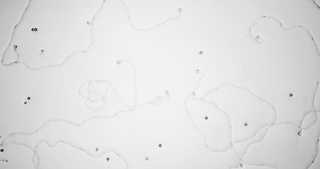germinated: (255, 34, 265, 42), (11, 43, 19, 53), (162, 89, 170, 97), (195, 67, 203, 74), (176, 7, 183, 15), (115, 59, 124, 65), (296, 128, 302, 135), (191, 91, 196, 99)
nongerminated: (288, 92, 295, 100), (157, 142, 163, 149), (39, 47, 45, 54), (21, 100, 27, 106), (198, 49, 204, 55), (242, 121, 248, 127), (143, 156, 149, 162), (94, 146, 100, 152), (33, 26, 38, 32), (203, 115, 208, 121), (105, 156, 110, 162), (0, 147, 4, 154), (26, 95, 31, 100), (30, 26, 33, 32)
